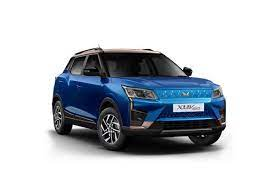XUV 400: (50, 45, 228, 153)
